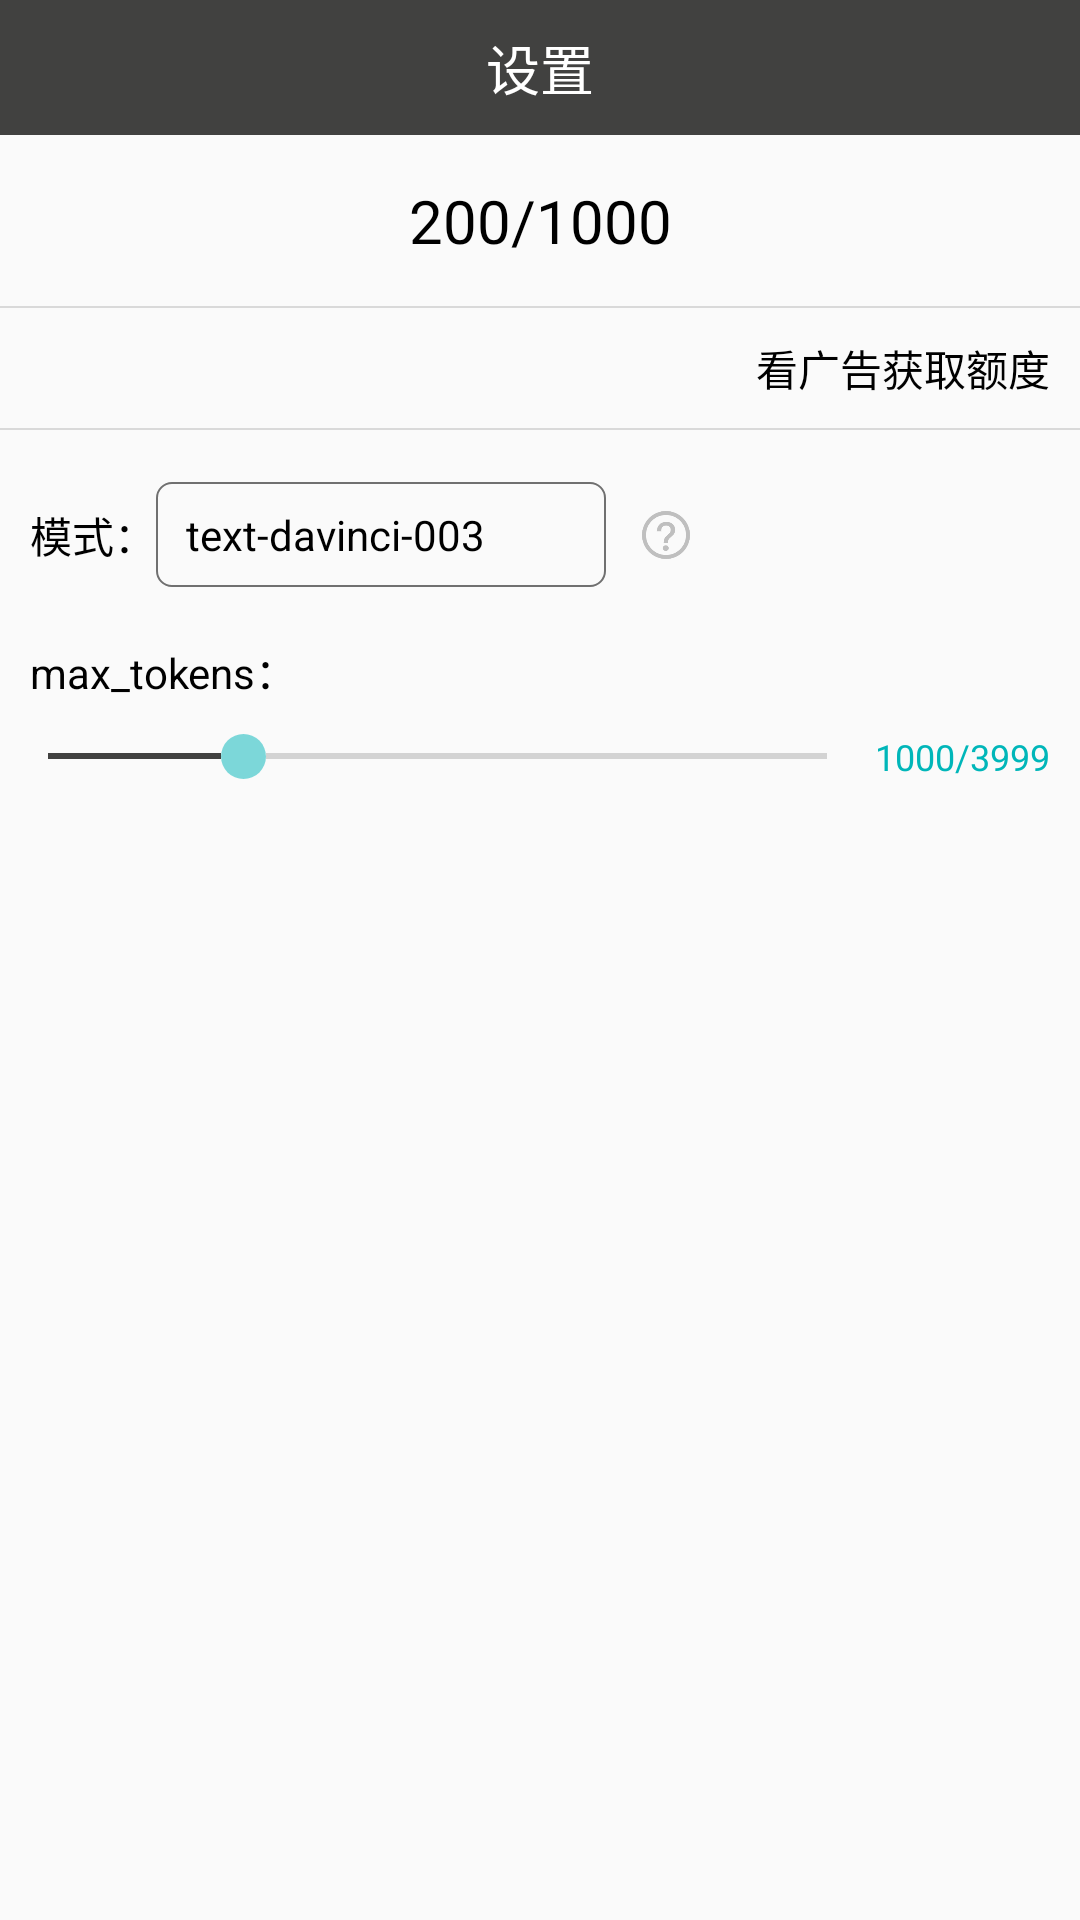

Where to tap for icons on this 1080px×1920px app screen, as point (x, y):
question: point (666, 535)
